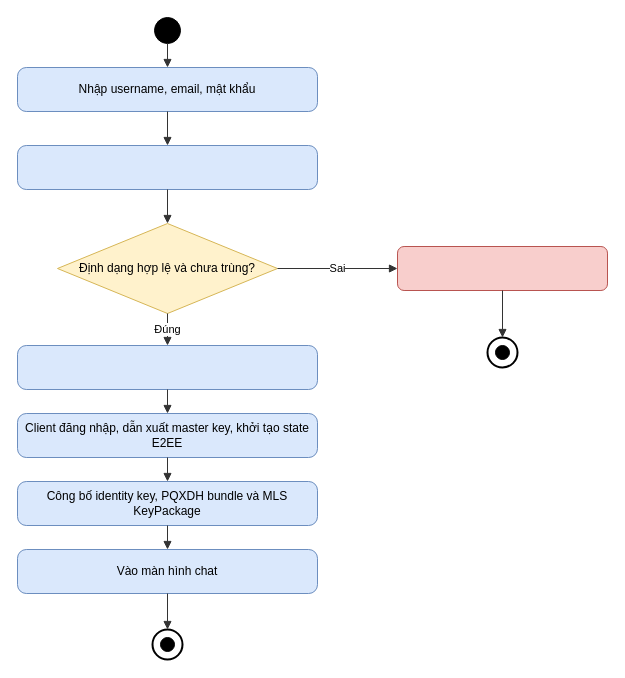
The diagram is 625 pixels wide and 678 high, and some of its shapes have lost their labels. Each missing label, with the box of its shape:
Báo lỗi, không tạo tài khoản: (396, 246, 608, 290)
Băm PBKDF2 (salt = email) và gửi gói register: (16, 144, 318, 190)
Server băm lại (PBKDF2 salt ngẫu nhiên) và tạo bản ghi users: (16, 344, 318, 390)
